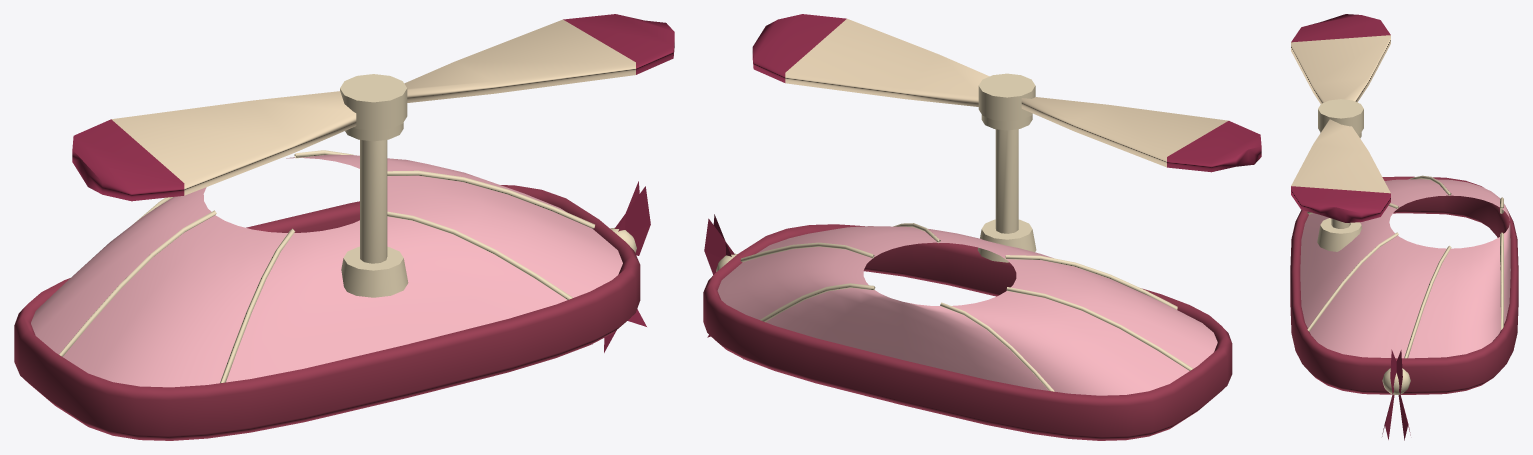
Rendered from glide-boudoir-beanie.glb.
The picture shows the model from 3 angles, left to right: view 1: azimuth 30°, elevation 25°; view 2: azimuth 150°, elevation 25°; view 3: azimuth 270°, elevation 25°; orthographic projection. The views are drawn at different scales.
Parts seen in each view (by area): view 1: glide-boudoir-beanie, spin; view 2: glide-boudoir-beanie, spin; view 3: glide-boudoir-beanie, spin.
Boxes of the visible parts, x1,y1,x2,y2 form: glide-boudoir-beanie: (14,122,650,440); spin: (72,14,674,201); glide-boudoir-beanie: (703,114,1232,440); spin: (752,14,1261,172); glide-boudoir-beanie: (1290,132,1518,440); spin: (1291,14,1390,222).
Bounding box in the file's own units: 0.6 × 0.3385 × 0.288.
